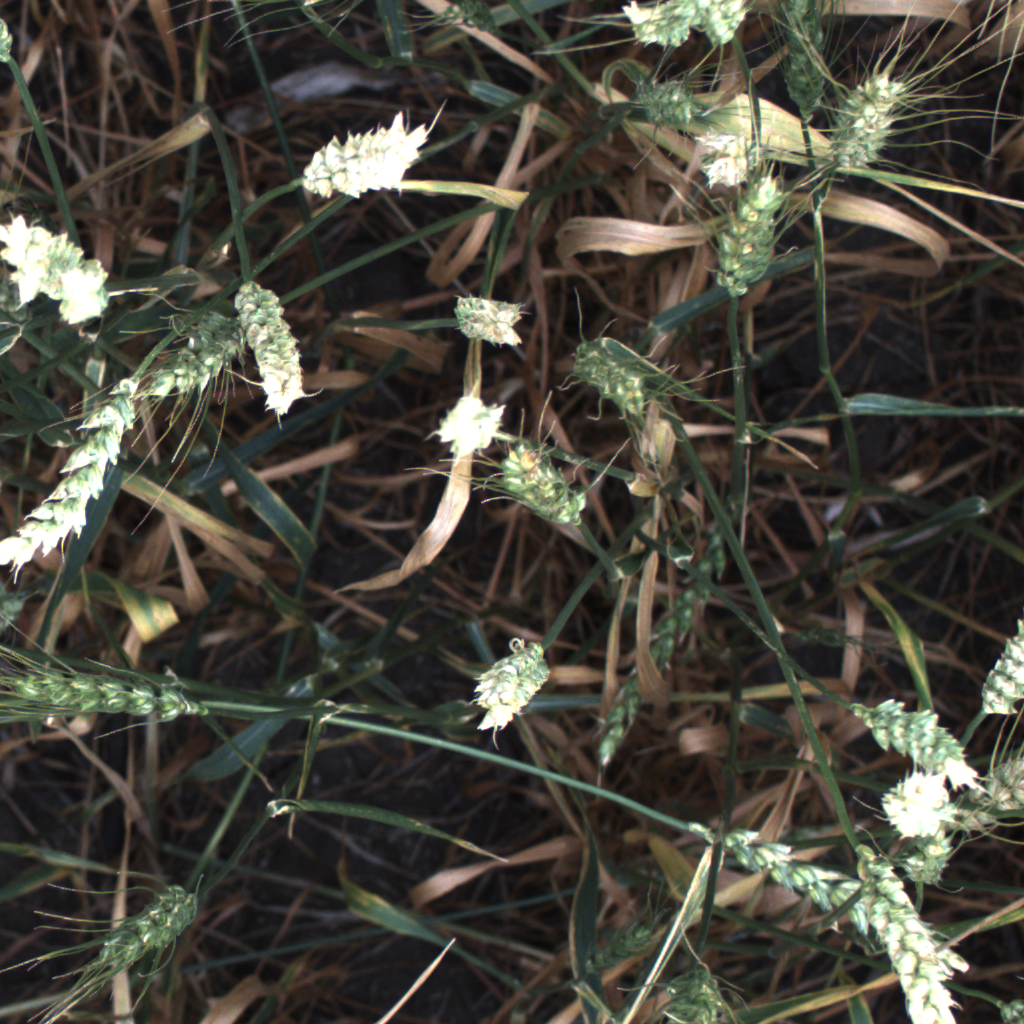wheat_head: (682, 816, 976, 984), (597, 514, 737, 781), (0, 357, 149, 579), (835, 838, 968, 1024), (0, 640, 210, 739), (842, 683, 986, 799), (0, 205, 122, 334), (286, 111, 436, 214), (448, 616, 567, 739), (90, 865, 206, 990), (229, 277, 321, 429), (823, 58, 919, 186), (146, 289, 248, 408), (490, 431, 596, 540), (710, 165, 787, 303), (437, 269, 540, 365), (573, 905, 684, 991), (769, 0, 837, 134), (857, 757, 965, 840), (424, 377, 517, 470), (569, 332, 660, 422), (964, 609, 1024, 723), (603, 0, 708, 54), (670, 958, 738, 1024), (697, 0, 756, 57), (966, 750, 1024, 806)
